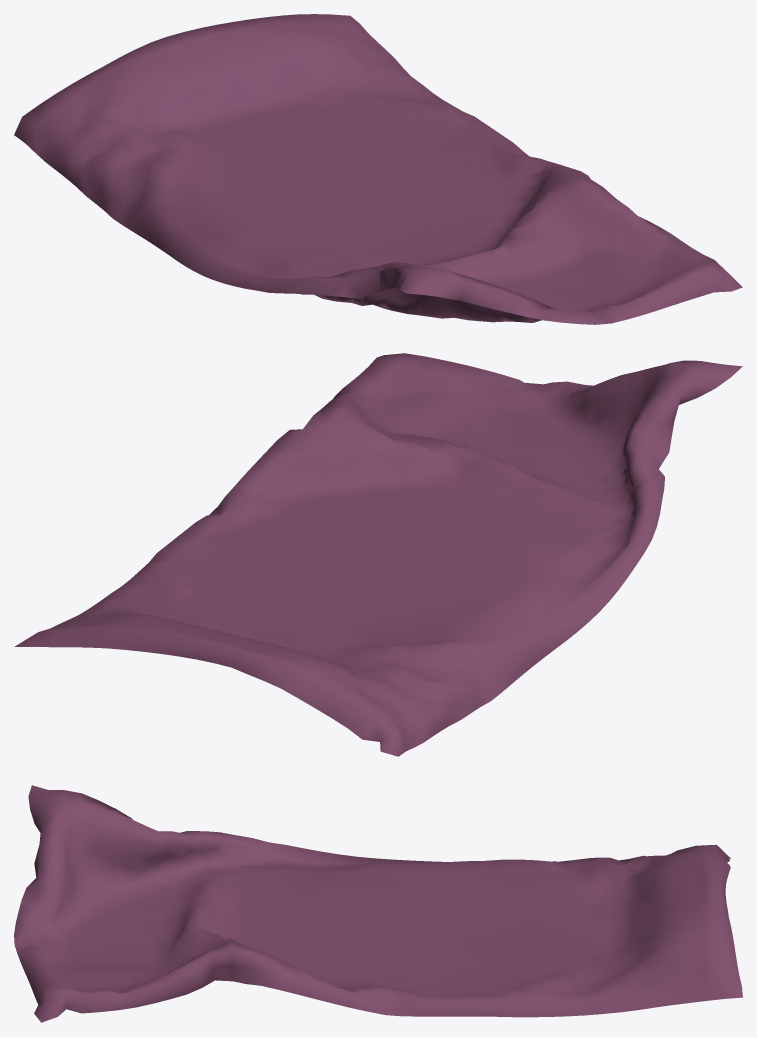
File: BedB_SheetTop_A.FBX
3 renders of one model, top to bottom at view 1: azimuth 30°, elevation 25°; view 2: azimuth 150°, elevation 25°; view 3: azimuth 270°, elevation 25°, orthographic. The views are drawn at different scales.
Visible parts, largest first — view 1: SheetD; view 2: SheetD; view 3: SheetD.
Boxes of the visible parts, left/top/right/bottom form: SheetD: left=14, top=14, right=742, bottom=324; SheetD: left=14, top=353, right=742, bottom=756; SheetD: left=14, top=785, right=742, bottom=1022.
Bounding box in the file's own units: 33.78 × 9.98 × 58.84.
